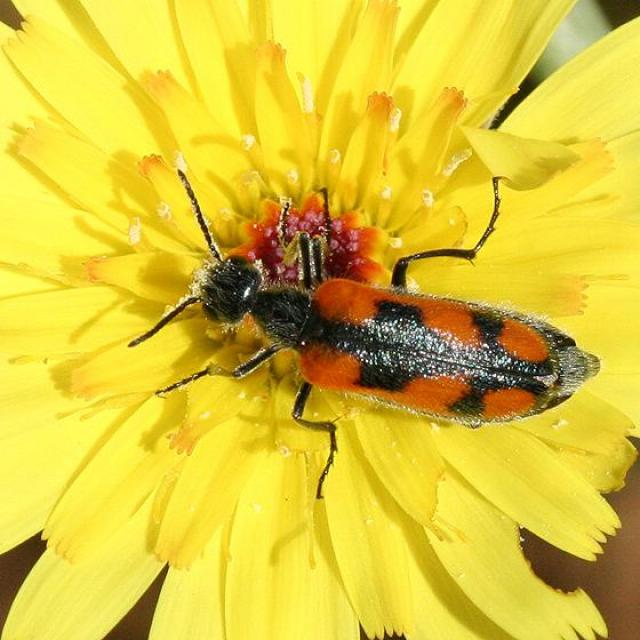BlisterBeetle-Adult-: (106, 146, 606, 464)
